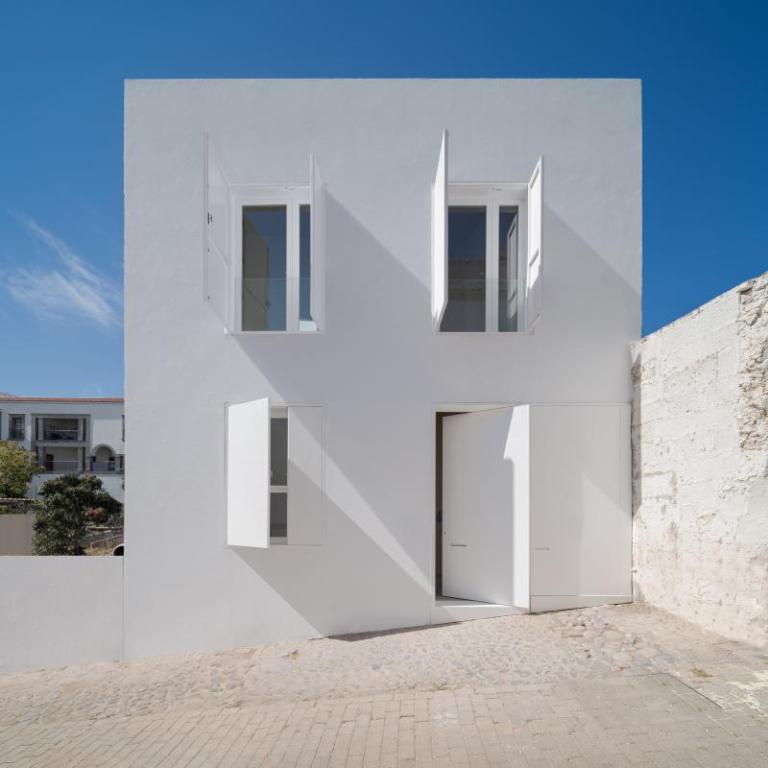white-walls: (544, 107, 625, 391)
